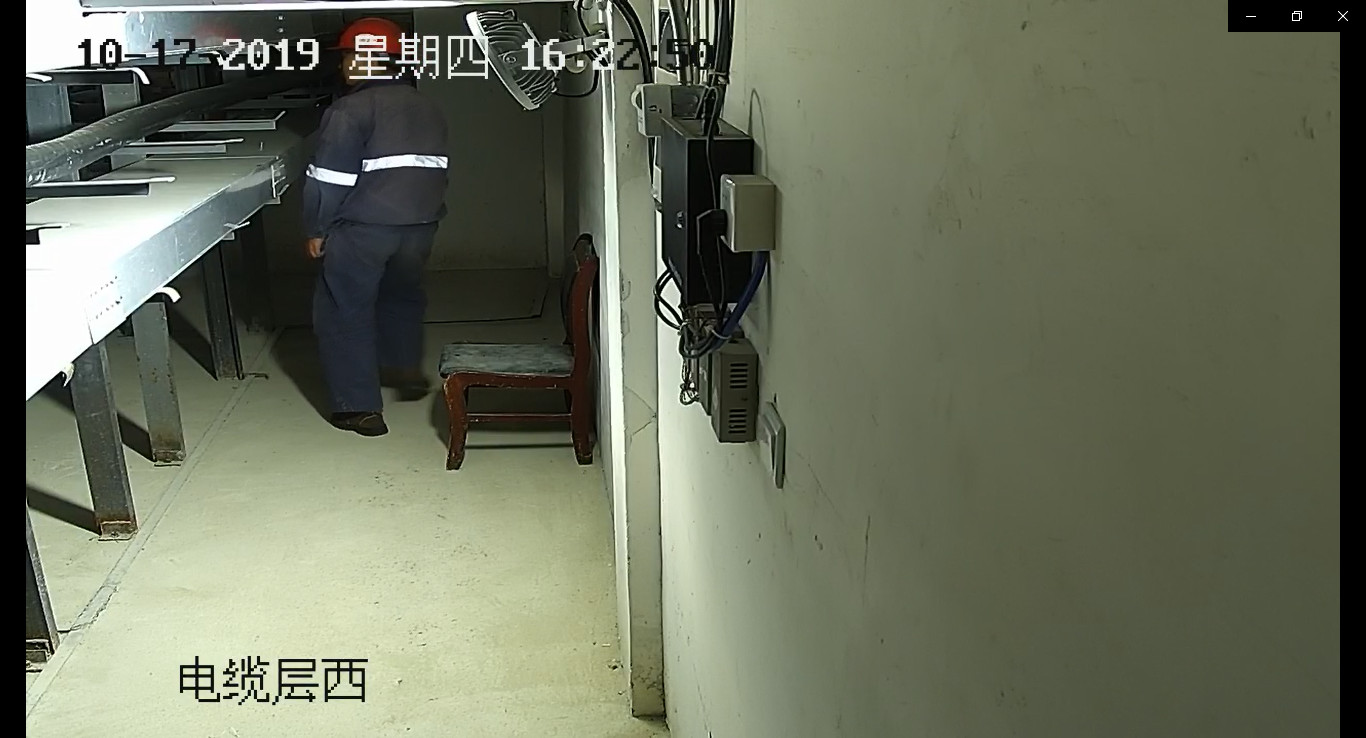helmet: (326, 17, 407, 53)
